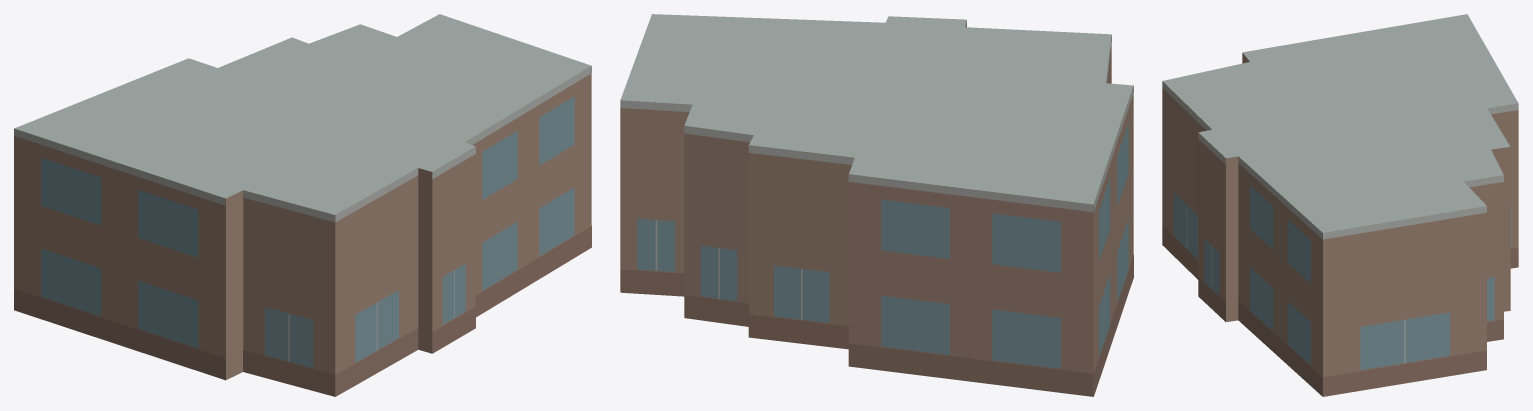
File: survey-upis-32498076.glb
The picture shows the model from 3 angles, left to right: view 1: azimuth 30°, elevation 25°; view 2: azimuth 150°, elevation 25°; view 3: azimuth 270°, elevation 25°; orthographic projection. The views are drawn at different scales.
Parts seen in each view (by area): view 1: survey-upis-32498076.tmp; view 2: survey-upis-32498076.tmp; view 3: survey-upis-32498076.tmp.
Part boxes in pixels (x1=…): survey-upis-32498076.tmp: x1=14, y1=14, x2=591, y2=396; survey-upis-32498076.tmp: x1=620, y1=14, x2=1133, y2=396; survey-upis-32498076.tmp: x1=1162, y1=14, x2=1518, y2=396.
Bounding box in the file's own units: 17.49 × 6.1 × 12.03.
